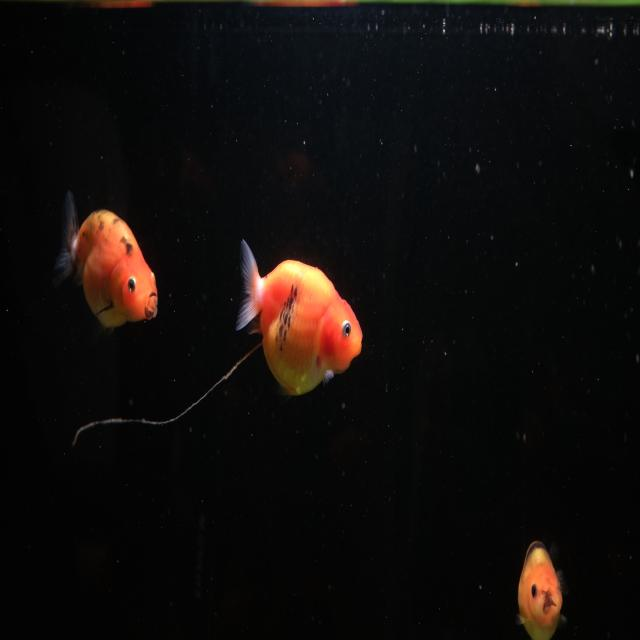Goldfish: (235, 237, 363, 398), (54, 189, 158, 334), (516, 540, 566, 639)
